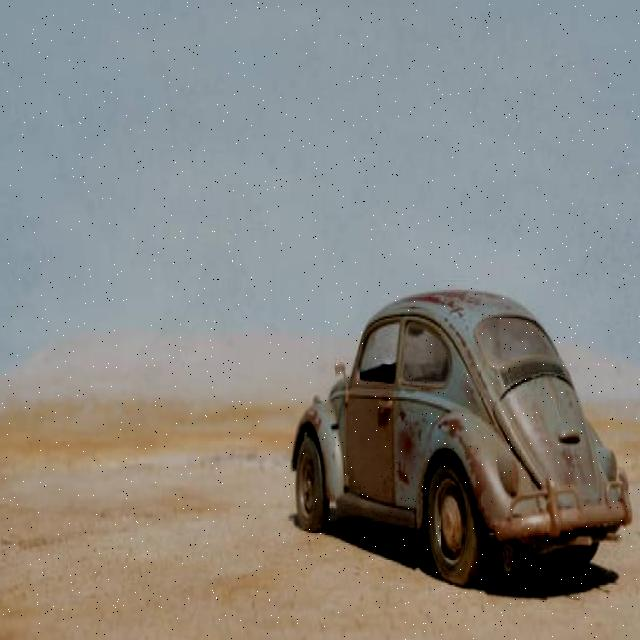car: (284, 296, 634, 593)
